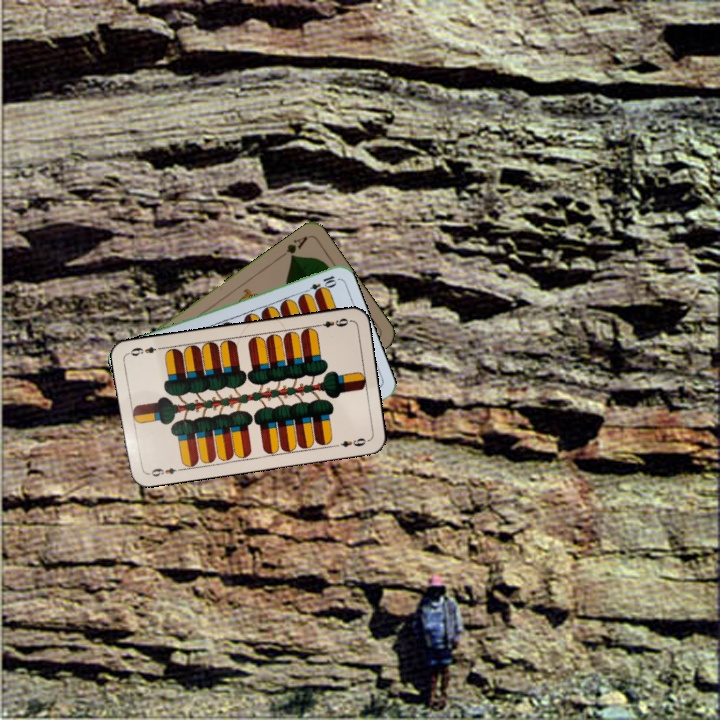E10: (299, 271, 339, 297)
E9: (312, 314, 353, 330), (143, 464, 184, 479)
GA: (275, 232, 310, 261)
